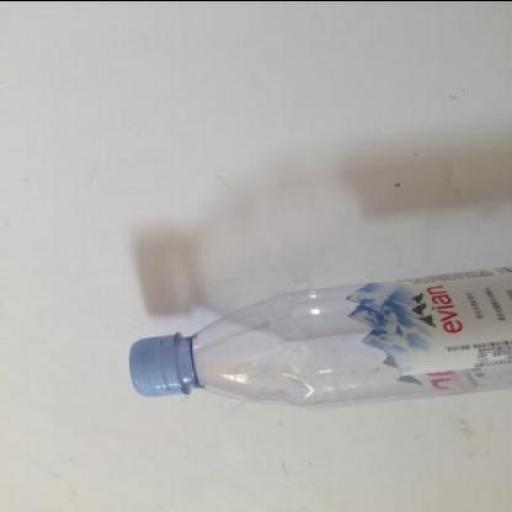plastic: (128, 265, 511, 406), (129, 335, 191, 397)
